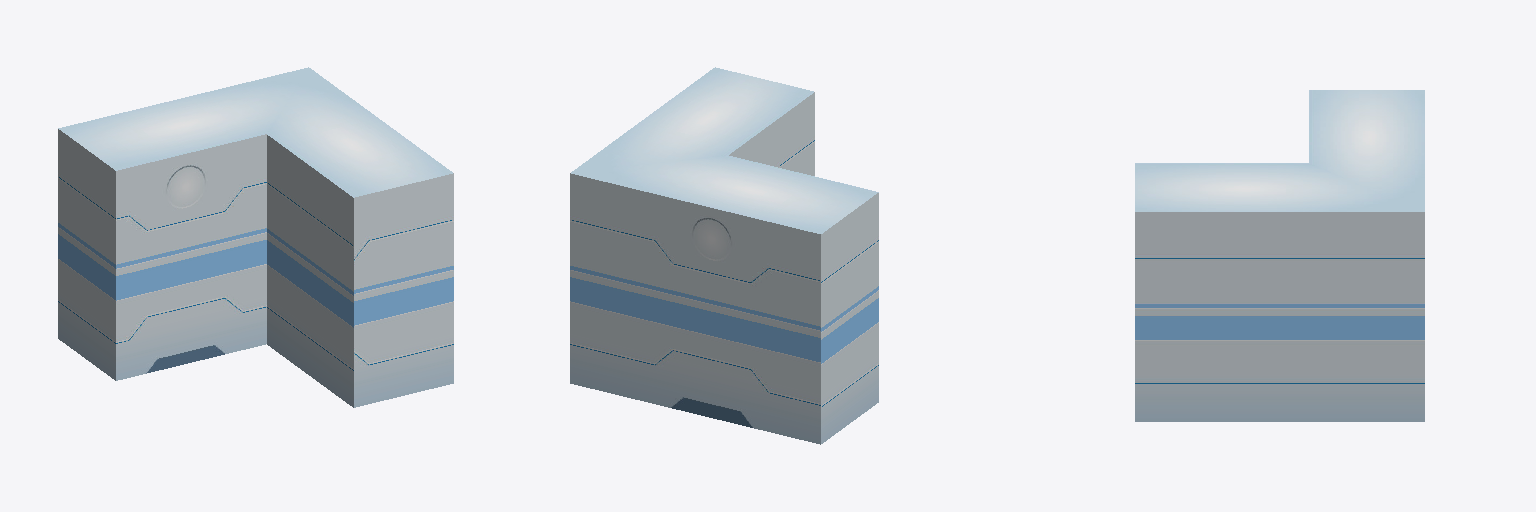
The picture shows the model from 3 angles: view 1: azimuth 30°, elevation 25°; view 2: azimuth 150°, elevation 25°; view 3: azimuth 270°, elevation 25°; orthographic projection.
Visible parts, largest first — view 1: mesh02; view 2: mesh02; view 3: mesh02.
Part boxes in pixels (x1,y1,x2,y2): mesh02: (58, 67, 453, 407); mesh02: (570, 67, 878, 444); mesh02: (1135, 90, 1424, 421).
Size of the model in its own units: 50 by 40 by 50.
1 materials, 1 textured.